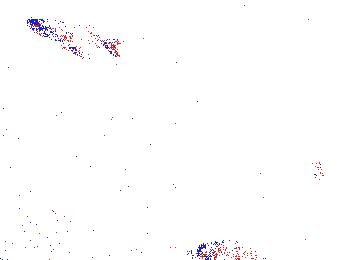X-ray fish: (185, 239, 252, 260), (302, 158, 326, 185)
redtail glassfish: (25, 14, 125, 60)
